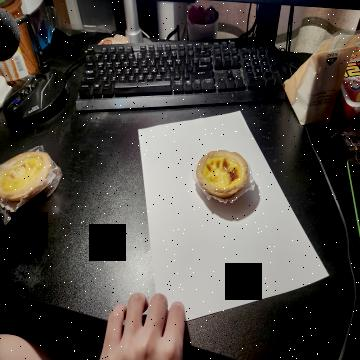EggTart: (195, 148, 249, 200)
